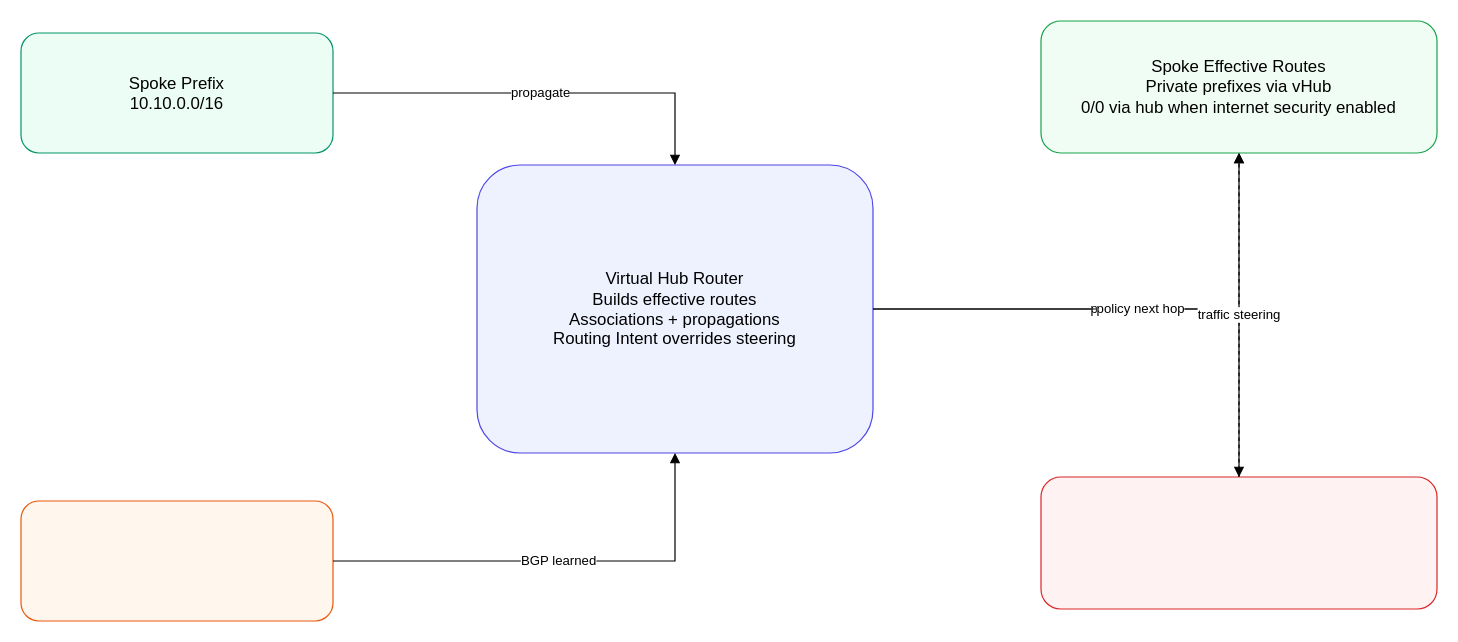
This 1458x642 diagram has some shape labels left out. The shapes that lost their labels are listed below. From the top down, each one's box as (x1, y1, x2, y2) in pixels, then its label:
(20, 500, 333, 621): Branch Prefix 10.50.0.0/16 via BGP
(1040, 476, 1437, 609): Firewall/NVA Next Hop Private and/or Internet policy target
